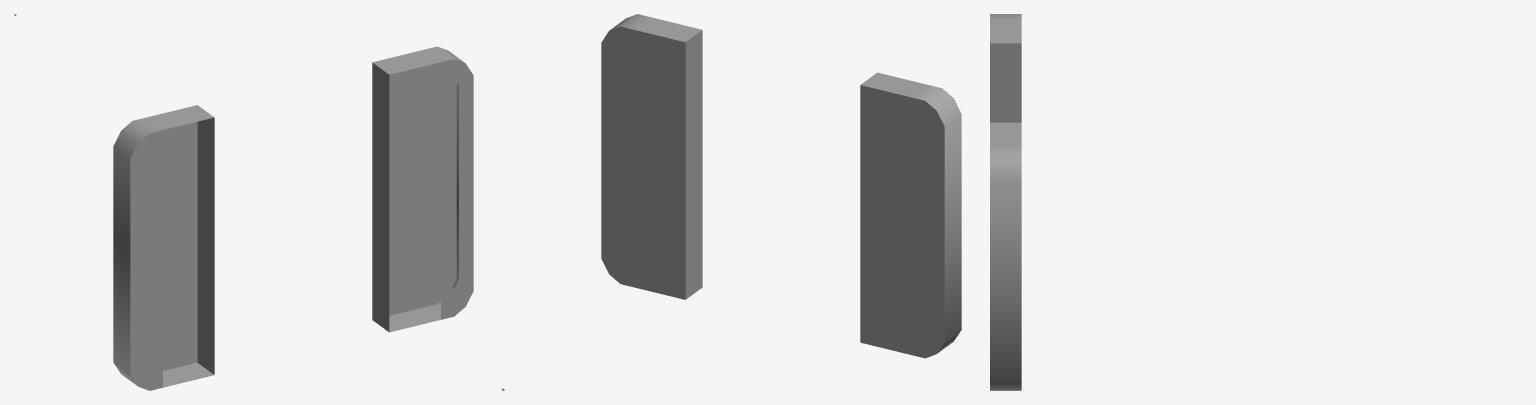
File: AlarmClock_15_AlarmClock_15_0_GeomSubset_2.obj
3 views of the same model, side by side, from view 1: azimuth 30°, elevation 25°; view 2: azimuth 150°, elevation 25°; view 3: azimuth 270°, elevation 25° (orthographic). The views are drawn at different scales.
Parts seen in each view (by area): view 1: AlarmClock_15_AlarmClock_15_0_GeomSubset_2; view 2: AlarmClock_15_AlarmClock_15_0_GeomSubset_2; view 3: AlarmClock_15_AlarmClock_15_0_GeomSubset_2.
Boxes of the visible parts, x1=… form: AlarmClock_15_AlarmClock_15_0_GeomSubset_2: x1=14, y1=14, x2=473, y2=390; AlarmClock_15_AlarmClock_15_0_GeomSubset_2: x1=502, y1=14, x2=961, y2=390; AlarmClock_15_AlarmClock_15_0_GeomSubset_2: x1=990, y1=14, x2=1021, y2=390.
Size of the model in its own units: 0.1838 by 0.1318 by 0.2658.
